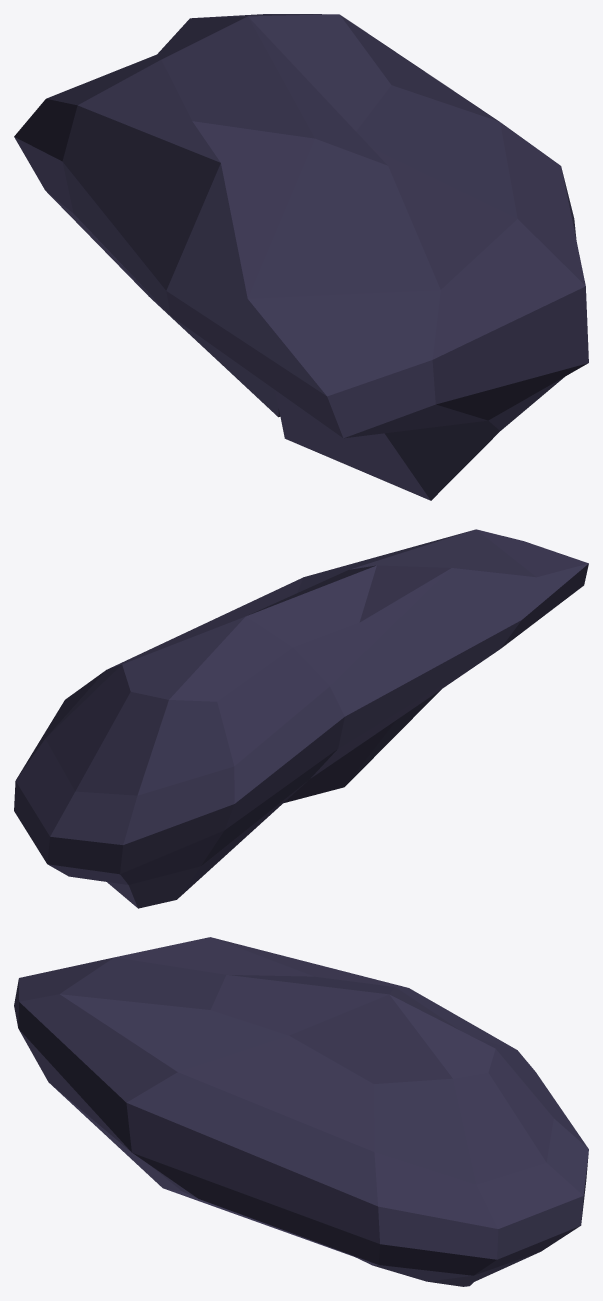
File: Cloud_Medium_Night.fbx
The picture shows the model from 3 angles, top to bottom: view 1: azimuth 30°, elevation 25°; view 2: azimuth 150°, elevation 25°; view 3: azimuth 270°, elevation 25°; orthographic projection. The views are drawn at different scales.
Parts seen in each view (by area): view 1: pasted__pSphere2; view 2: pasted__pSphere2; view 3: pasted__pSphere2.
Boxes of the visible parts, box(x1,y1,x2,y2) form: pasted__pSphere2: box(14, 14, 588, 500); pasted__pSphere2: box(14, 529, 588, 908); pasted__pSphere2: box(14, 937, 588, 1286).
Size of the model in its own units: 14.58 by 10.99 by 21.39.
